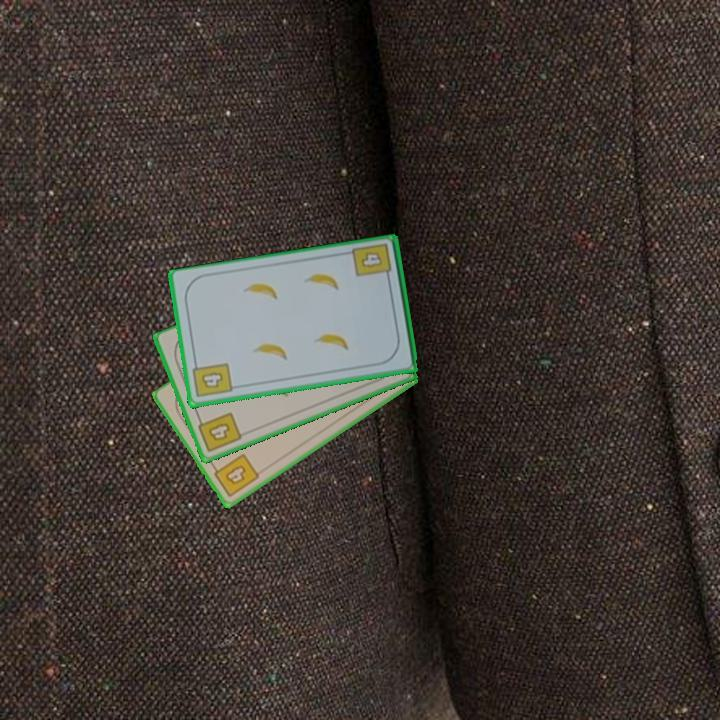4b: (208, 450, 262, 500), (194, 409, 245, 456), (349, 240, 395, 285), (189, 358, 235, 400)
